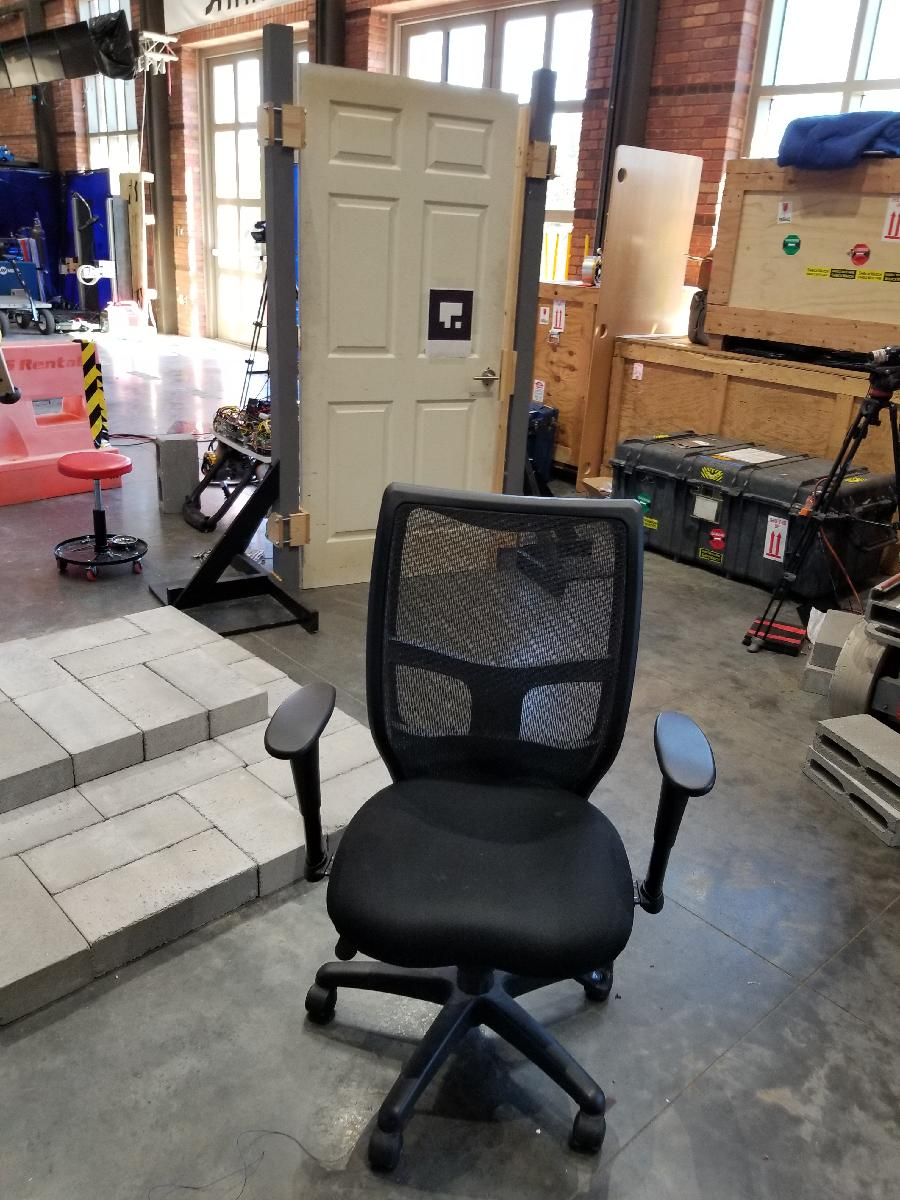door: (294, 56, 522, 594)
doorHandle: (473, 363, 500, 390)
